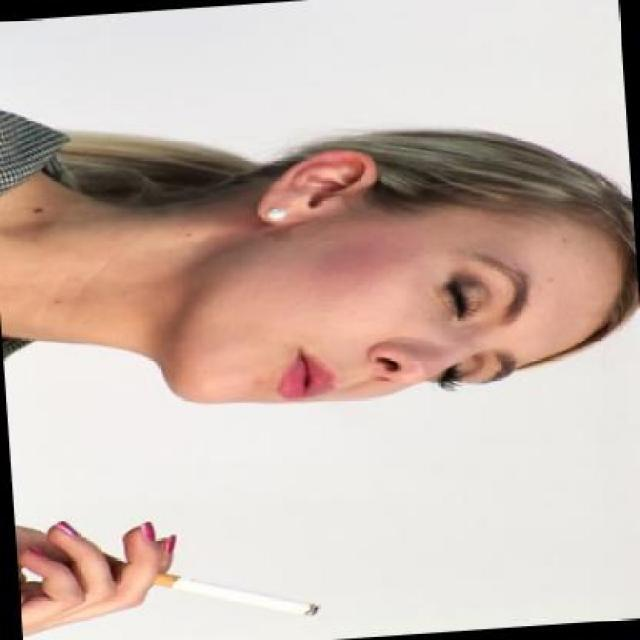smoke: (148, 561, 321, 630)
